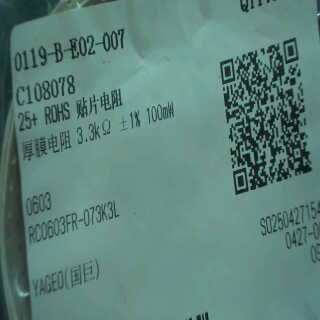3.3kO: (73, 117, 115, 146)
